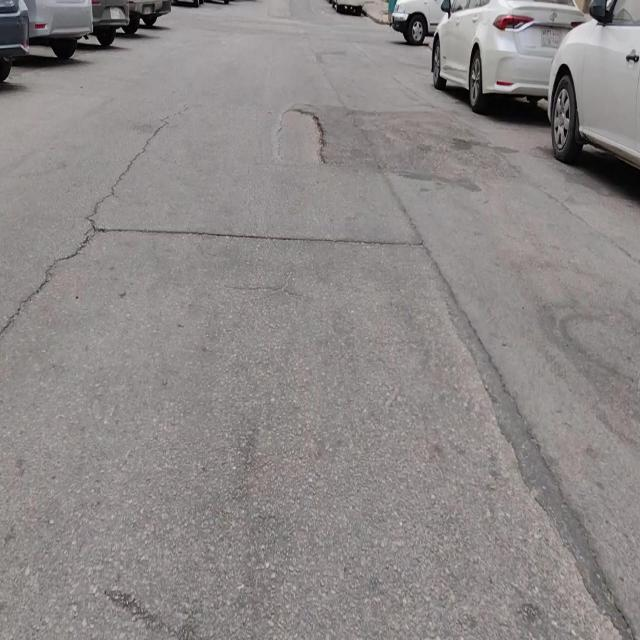Potholes: (274, 106, 326, 166)
